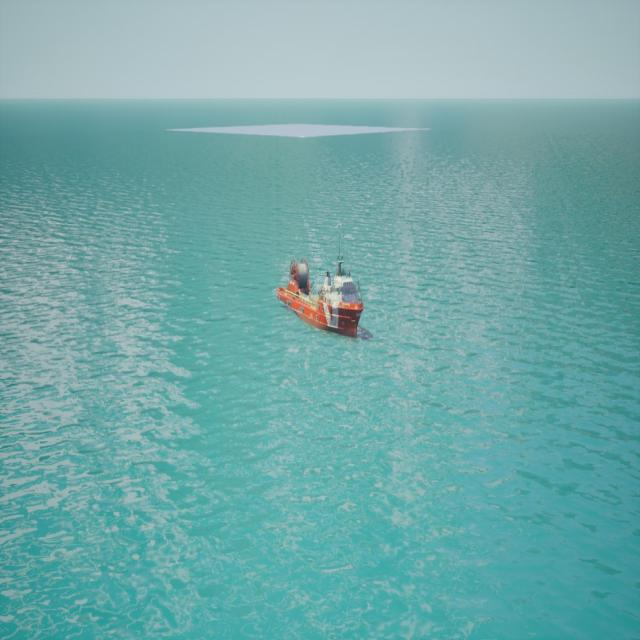tug boat: (276, 256, 370, 340)
